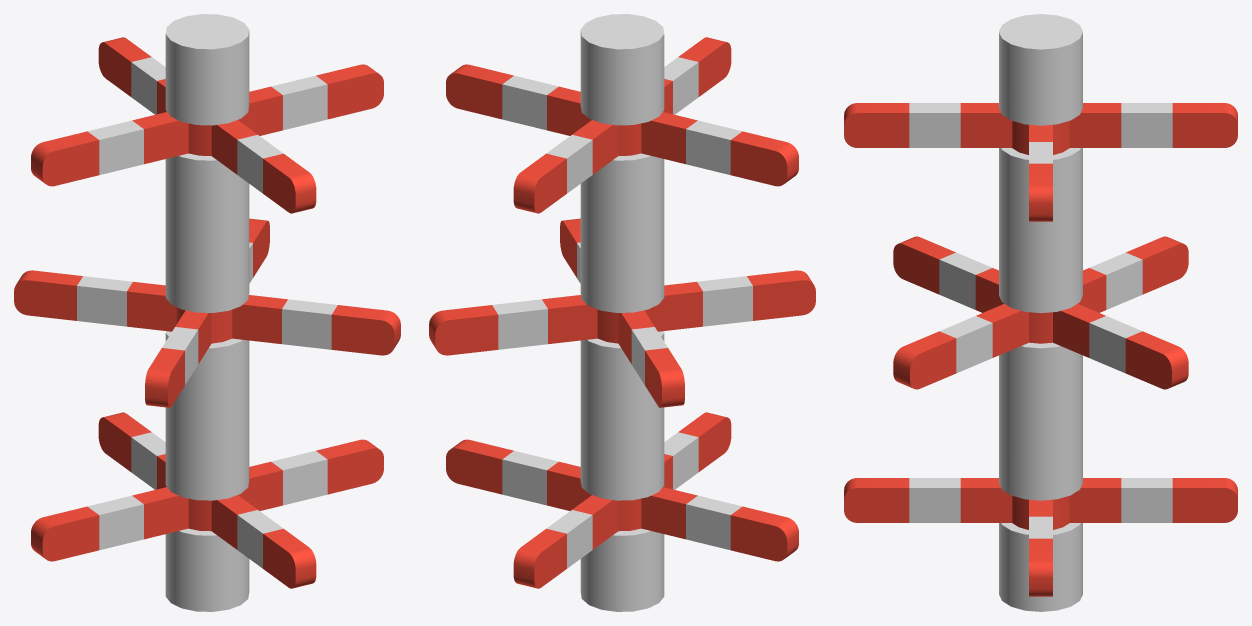
Rendered from Blades C Big.fbx.
The picture shows the model from 3 angles, left to right: view 1: azimuth 30°, elevation 25°; view 2: azimuth 150°, elevation 25°; view 3: azimuth 270°, elevation 25°; orthographic projection.
Parts seen in each view (by area): view 1: Blades C Big.001, Blades C Big, Blades C Big.002, Blades C Big.003; view 2: Blades C Big.001, Blades C Big, Blades C Big.002, Blades C Big.003; view 3: Blades C Big.001, Blades C Big.003, Blades C Big, Blades C Big.002.
Boxes of the visible parts, x1,y1,x2,y2 form: Blades C Big.001: (165,14,249,611); Blades C Big: (31,412,383,588); Blades C Big.002: (31,37,383,213); Blades C Big.003: (14,218,400,407); Blades C Big.001: (580,14,664,611); Blades C Big: (446,412,798,588); Blades C Big.002: (446,37,798,213); Blades C Big.003: (429,218,815,407); Blades C Big.001: (999,14,1082,611); Blades C Big.003: (893,236,1188,389); Blades C Big: (844,478,1237,596); Blades C Big.002: (844,103,1237,221).
Bounding box in the file's own units: 200 × 315 × 200.
